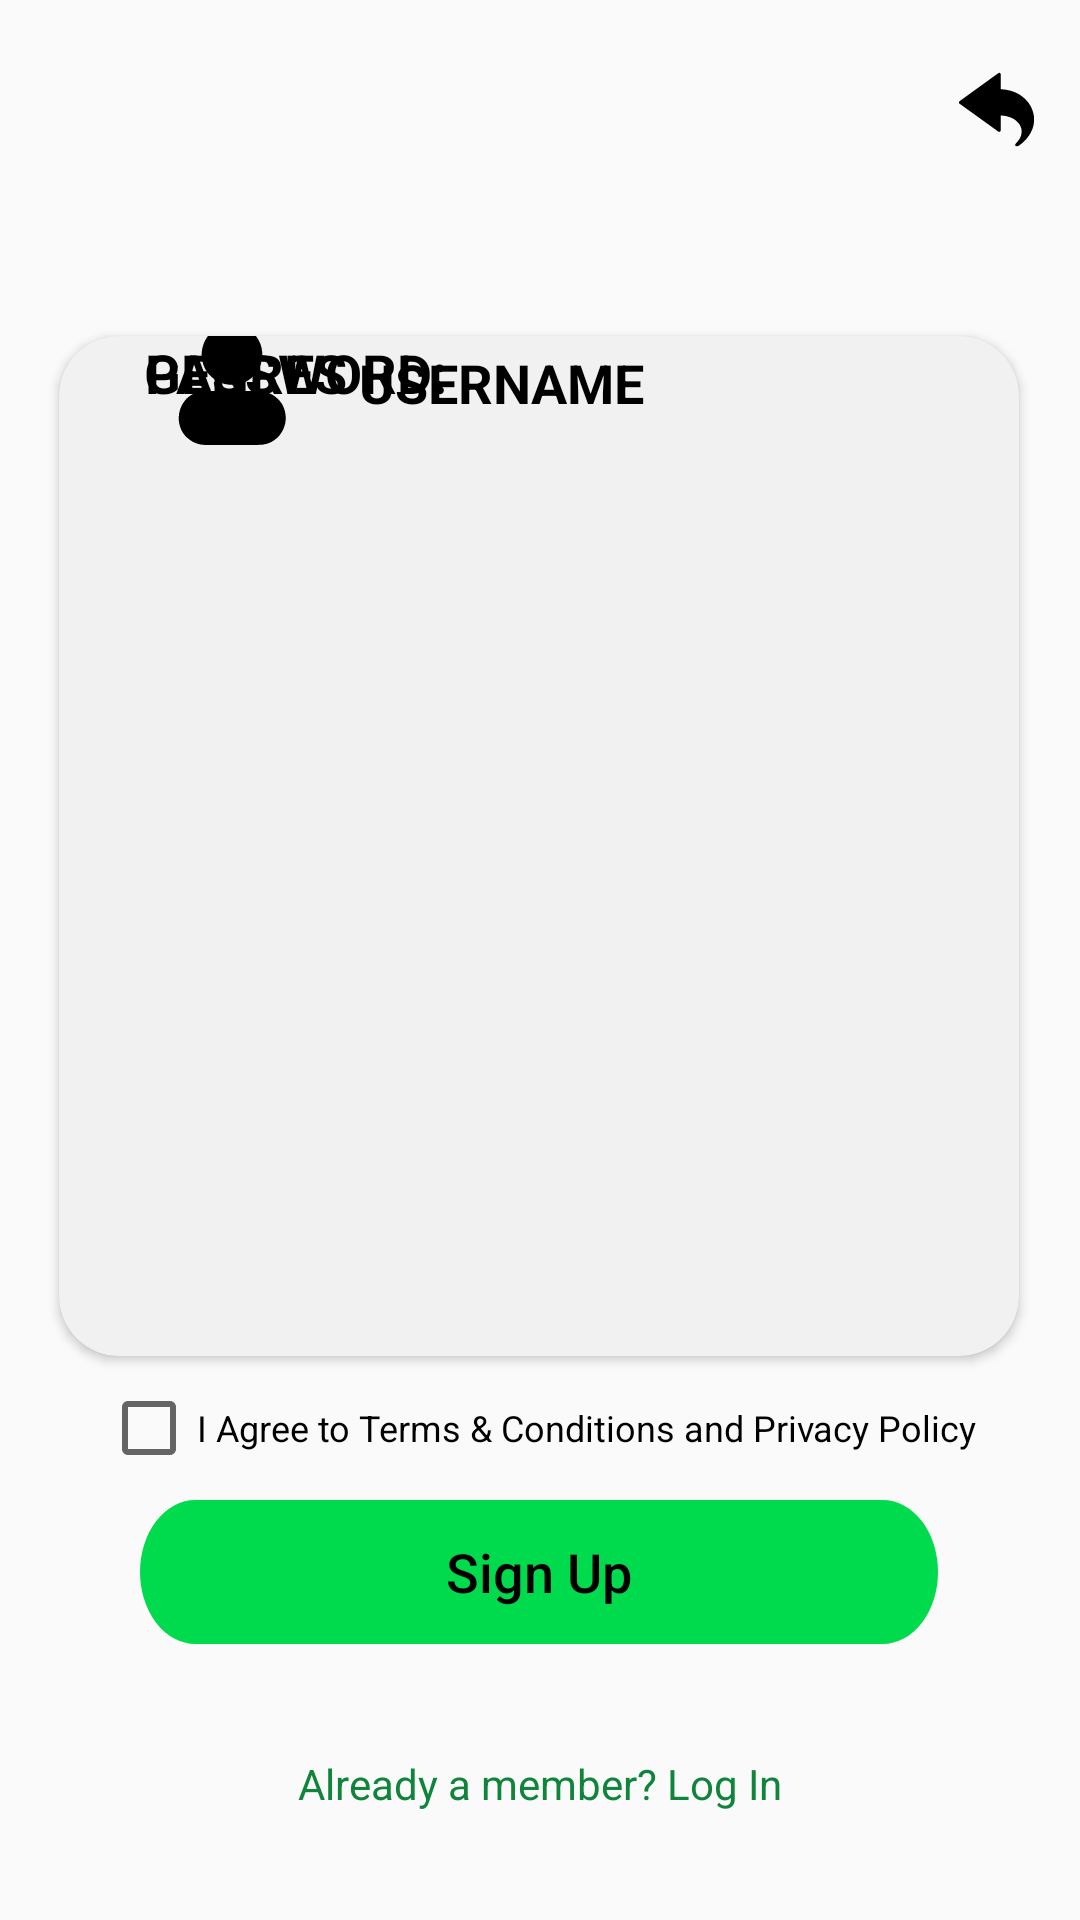

Screen size 1080w x 1920h. Icon name, then its center in pixels as (x,y):
Return: (996,109)
